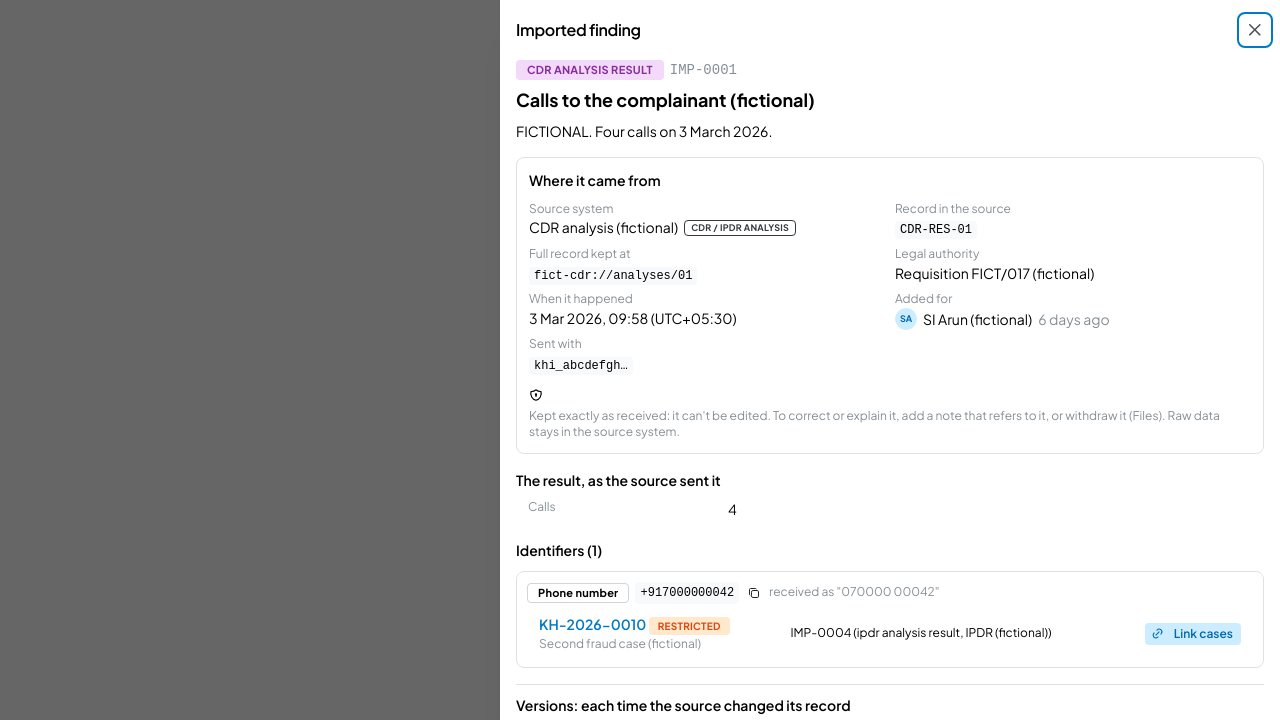
Scenario: ImportDrawer › shows where the finding came from and offers to link a case that shares an identifier
Expected: the text "Calls to the complainant (fictional)" is shown, [516, 88, 815, 111]
Expected: the text "Requisition FICT/017 (fictional)" is shown, [895, 264, 1094, 282]
Click the button with aria-label "Link KH-2026-0010" at (1193, 634), box [1145, 623, 1241, 645]
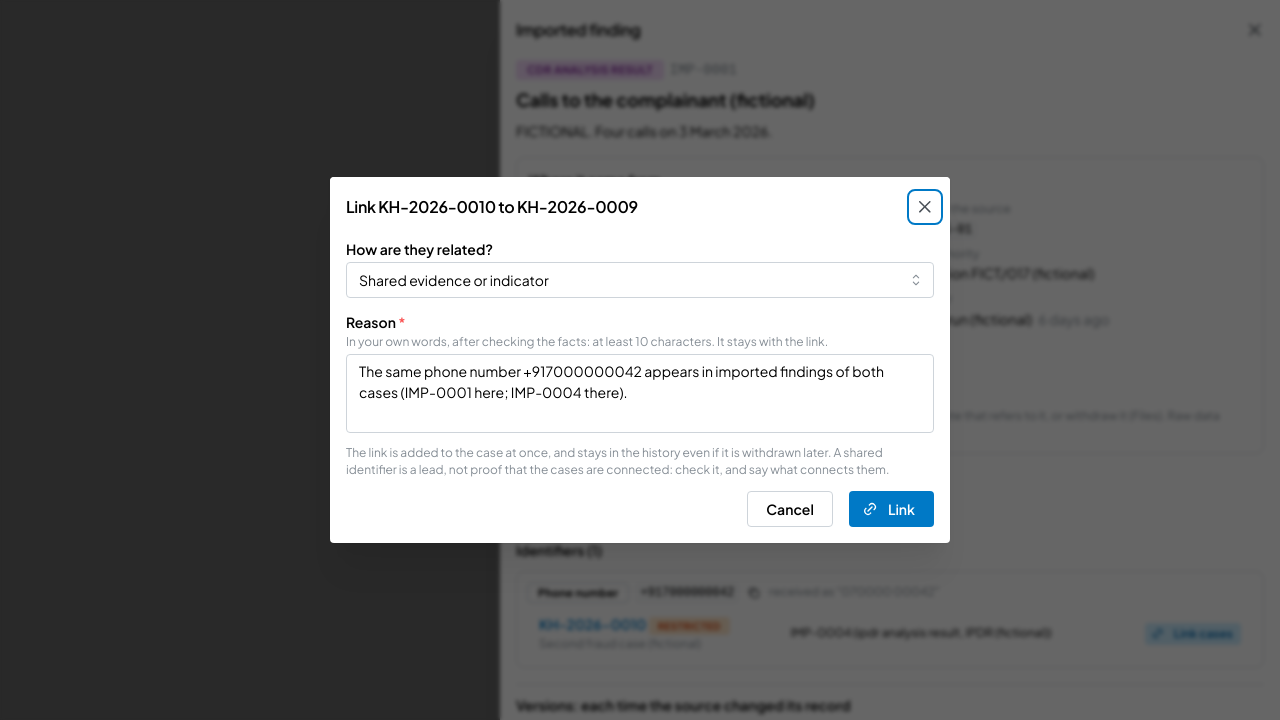
Result: the text box showing "The same phone number +917000000042 appears" is shown at [346, 354, 934, 433]
